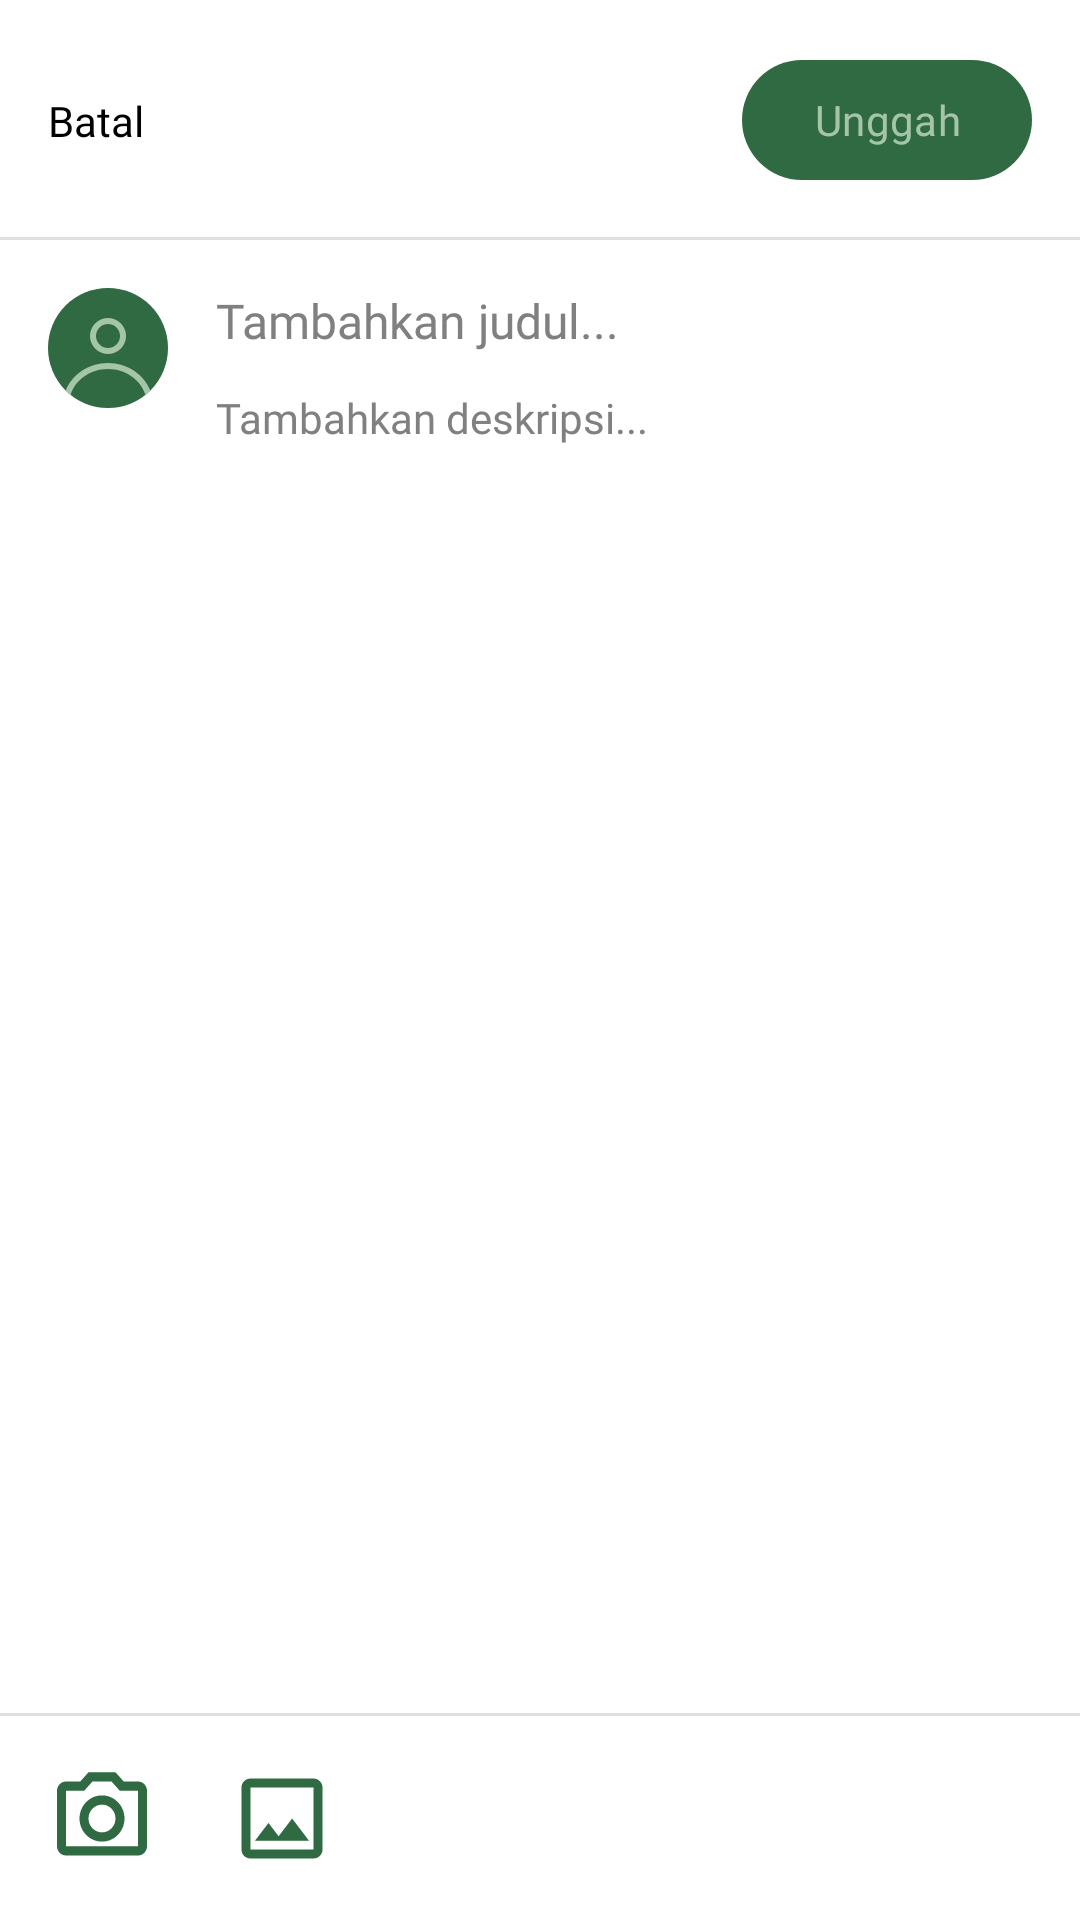

Locate icon controls on the screen. Image size 1080 x 1920, boxes as (x1, y1, x2, y2).
camera: (57, 1772, 147, 1856)
photo profile: (48, 288, 168, 408)
